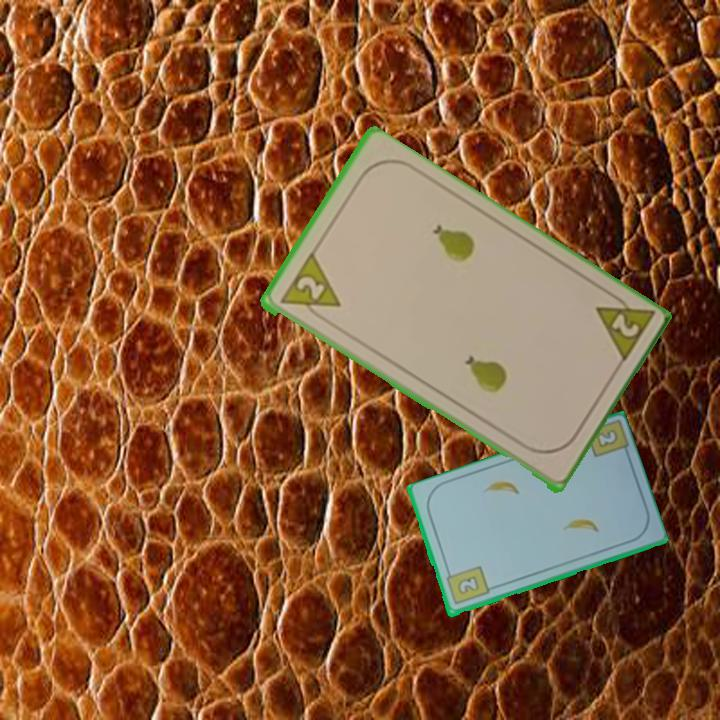2b: (442, 563, 492, 608), (592, 426, 621, 451)
2p: (591, 286, 656, 368), (292, 272, 327, 303)
